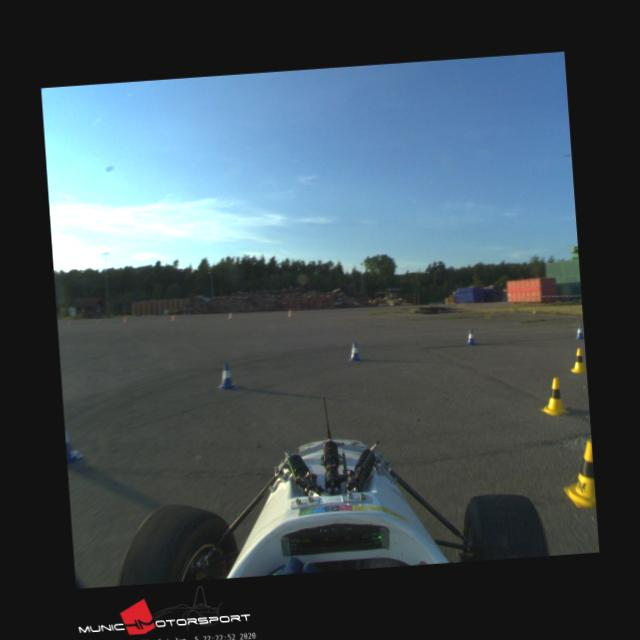blue_cone: (216, 362, 236, 389), (347, 342, 361, 361), (465, 329, 476, 344), (573, 324, 584, 339)
yellow_cone: (560, 438, 596, 508), (538, 376, 570, 416), (568, 347, 586, 372)
